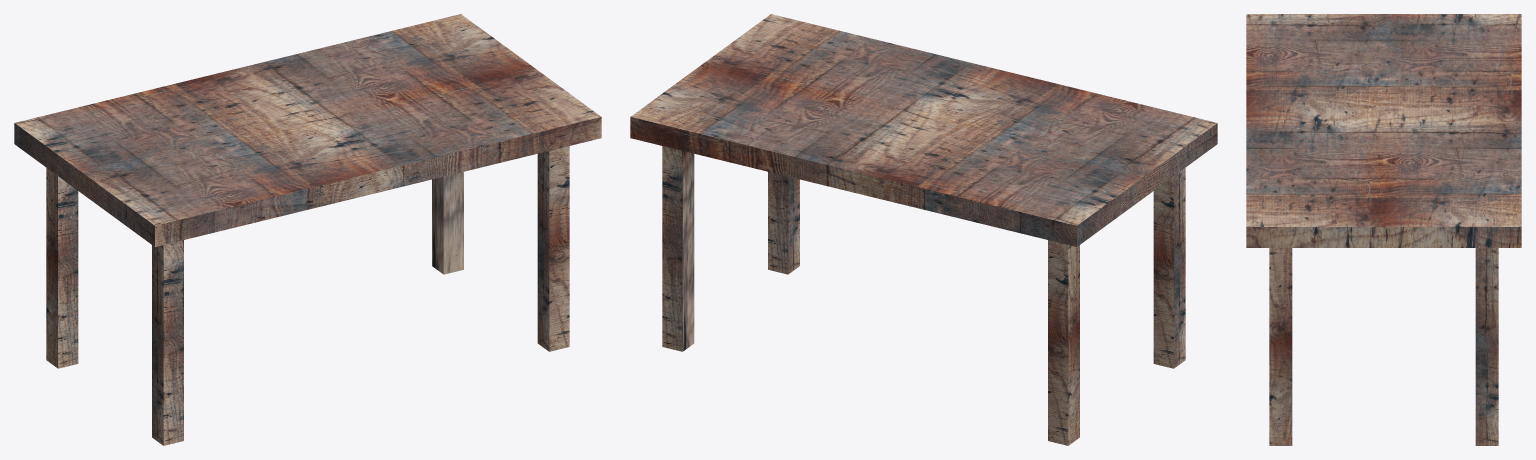
Rendered from table.fbx.
The picture shows the model from 3 angles, left to right: view 1: azimuth 30°, elevation 25°; view 2: azimuth 150°, elevation 25°; view 3: azimuth 270°, elevation 25°; orthographic projection. The views are drawn at different scales.
Visible parts, largest first — view 1: Table; view 2: Table; view 3: Table.
Boxes of the visible parts, <box> form: Table: <box>14,14,601,445</box>; Table: <box>630,14,1217,445</box>; Table: <box>1246,14,1521,445</box>.
Bounding box in the file's own units: 220 × 110 × 120.
